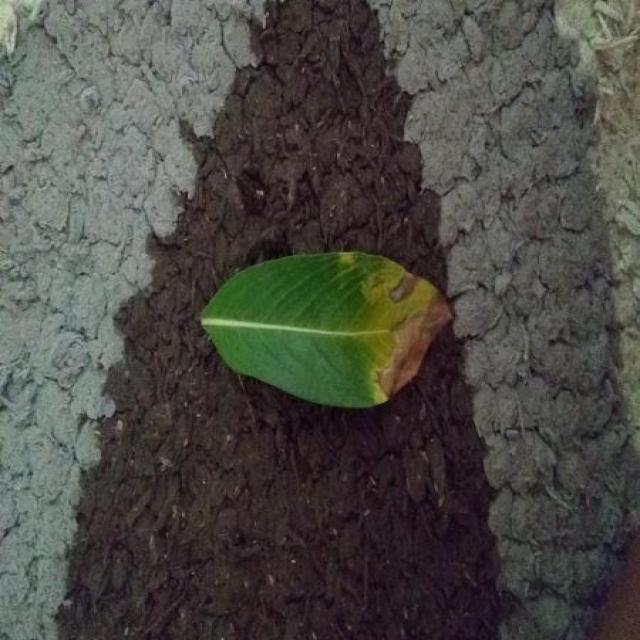catharanthus: (202, 251, 452, 407)
defectedcatharanthus: (313, 251, 452, 408)
